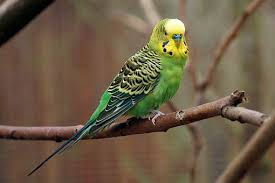budgie: (59, 17, 190, 153)
